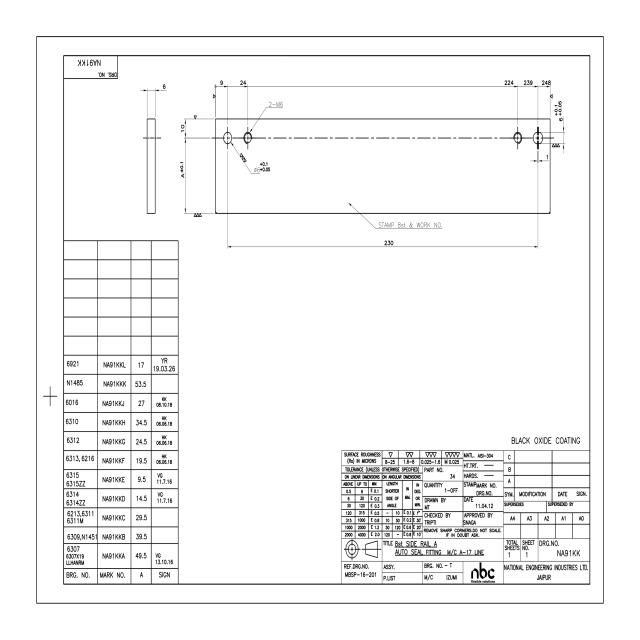dimension: (554, 98, 564, 123), (253, 161, 270, 173), (268, 100, 284, 108), (179, 159, 185, 178), (383, 239, 395, 247), (541, 78, 552, 86), (504, 78, 514, 86), (523, 79, 534, 86), (239, 79, 247, 86), (180, 124, 185, 133), (219, 79, 224, 86), (163, 82, 166, 90), (546, 154, 549, 161)
